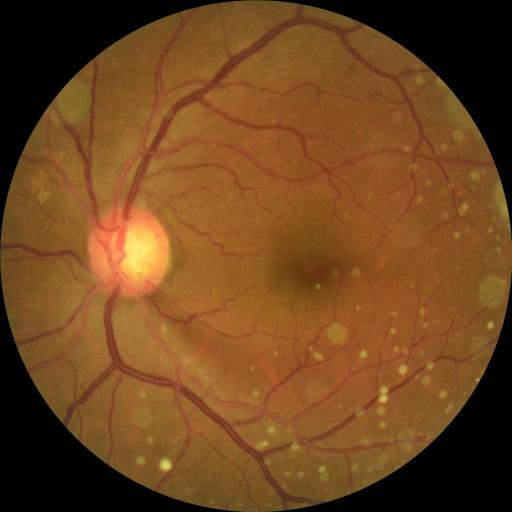Optic Cup: (118, 225, 158, 280)
Optic Disc: (89, 207, 170, 297)
